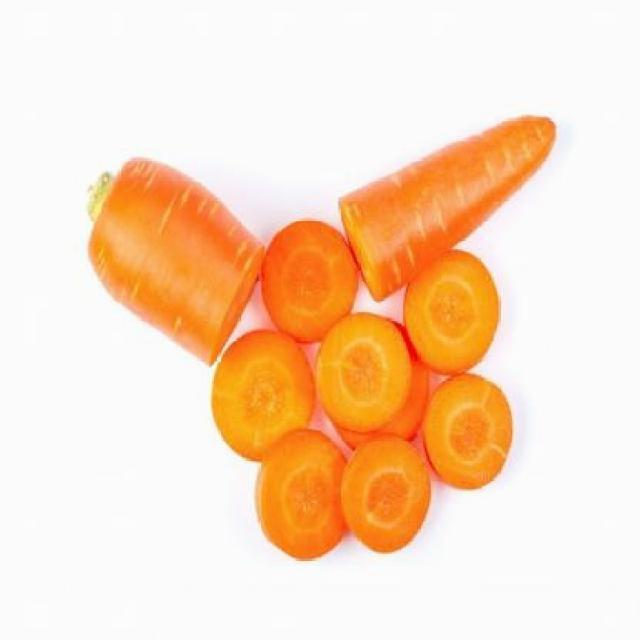carrot: (335, 110, 559, 304), (84, 150, 272, 373)
